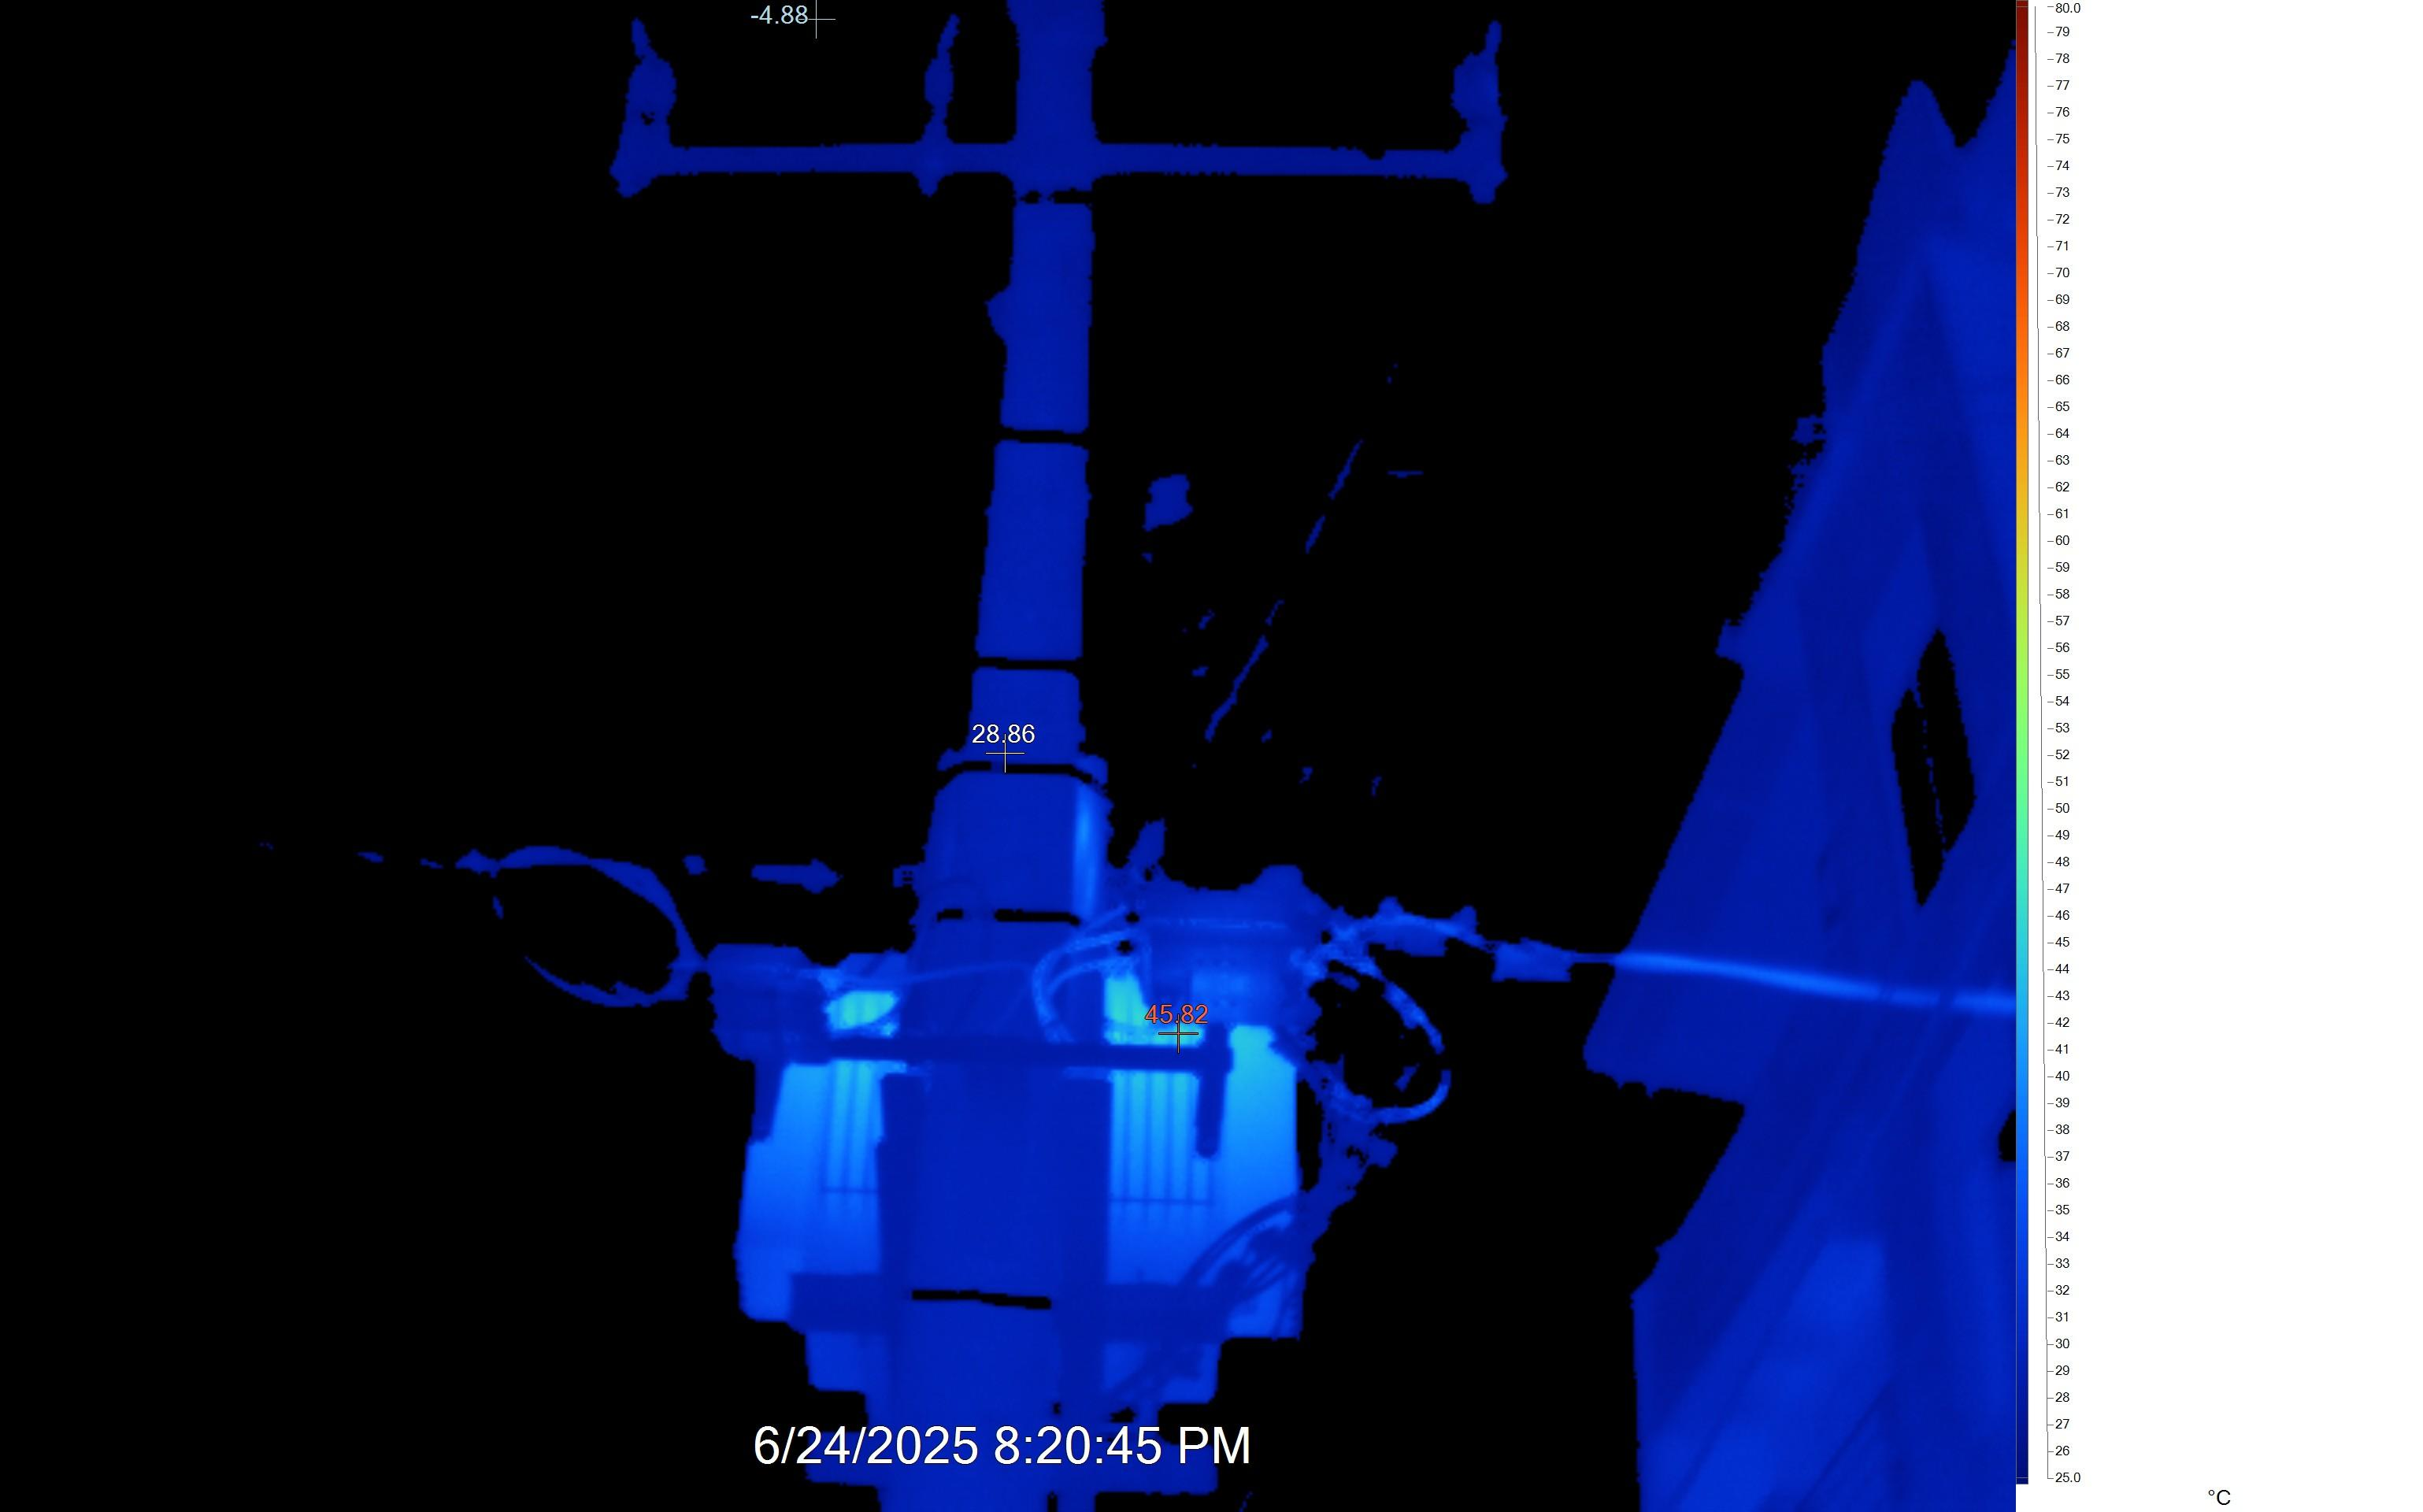normal: (740, 915, 1336, 1390)
